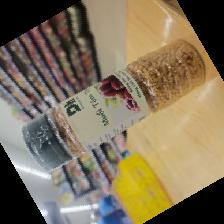TayNinh_green: (21, 38, 207, 171)
